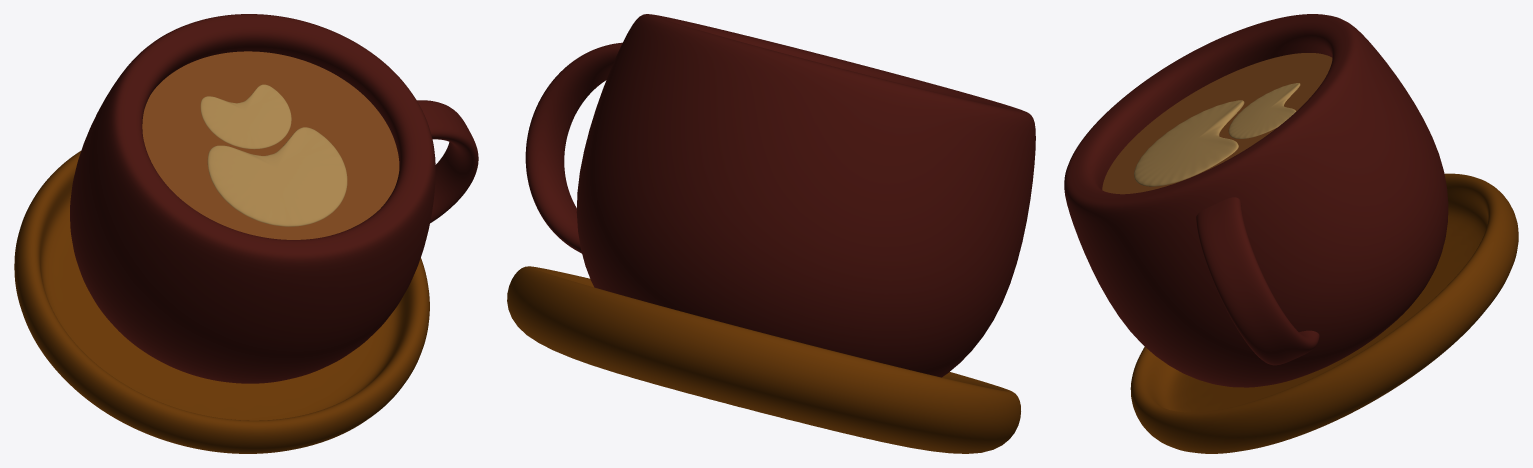
File: coffee-cup.glb
The picture shows the model from 3 angles, left to right: view 1: azimuth 30°, elevation 25°; view 2: azimuth 150°, elevation 25°; view 3: azimuth 270°, elevation 25°; orthographic projection. The views are drawn at different scales.
Parts seen in each view (by area): view 1: Cylinder, Cylinder.001, Cylinder.002, Cylinder.004, Cylinder.003, Circle; view 2: Cylinder, Cylinder.001, Circle; view 3: Cylinder, Cylinder.001, Circle, Cylinder.002, Cylinder.004, Cylinder.003.
Boxes of the visible parts, bbox=[...] form: Cylinder: bbox=[70, 14, 435, 383]; Cylinder.001: bbox=[14, 151, 429, 453]; Cylinder.002: bbox=[142, 51, 399, 239]; Cylinder.004: bbox=[207, 127, 347, 226]; Cylinder.003: bbox=[200, 84, 291, 149]; Circle: bbox=[417, 100, 478, 223]; Cylinder: bbox=[576, 14, 1035, 377]; Cylinder.001: bbox=[507, 266, 1020, 453]; Circle: bbox=[525, 42, 622, 253]; Cylinder: bbox=[1064, 14, 1448, 387]; Cylinder.001: bbox=[1130, 173, 1518, 453]; Circle: bbox=[1196, 197, 1319, 365]; Cylinder.002: bbox=[1102, 53, 1332, 194]; Cylinder.004: bbox=[1134, 100, 1244, 186]; Cylinder.003: bbox=[1228, 83, 1300, 138].
Size of the model in its own units: 2.38 by 2.05 by 2.25.
